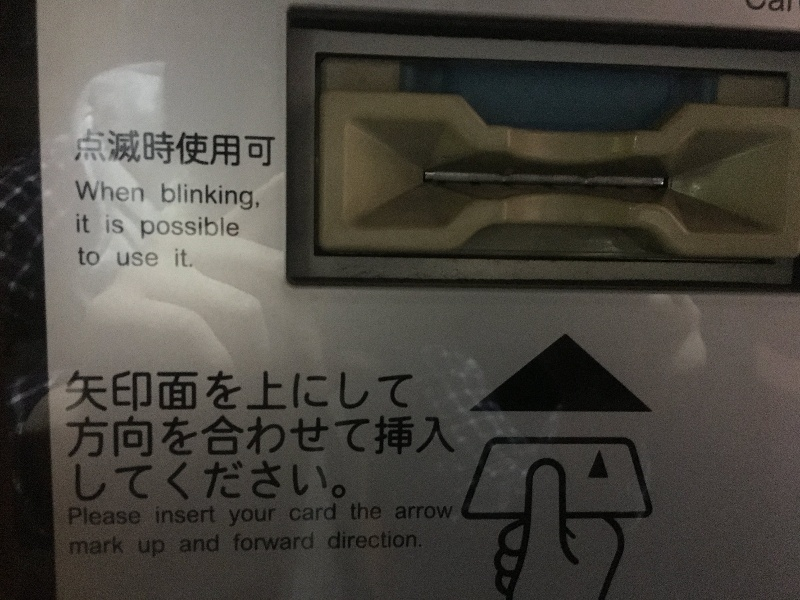text: (81, 416, 96, 462), (97, 416, 112, 462), (113, 416, 128, 462), (129, 416, 144, 462), (145, 416, 160, 462), (161, 416, 176, 462), (177, 416, 192, 462), (193, 416, 208, 462), (209, 416, 224, 462), (225, 416, 240, 462), (241, 416, 256, 462), (257, 416, 272, 462), (273, 416, 288, 462), (289, 416, 304, 462), (305, 416, 320, 462), (321, 416, 336, 462), (337, 416, 352, 462), (353, 416, 368, 462), (369, 416, 384, 462), (385, 416, 400, 462), (401, 416, 416, 462), (417, 416, 432, 462), (433, 416, 448, 462), (65, 370, 80, 413), (81, 370, 96, 413), (97, 370, 112, 413), (113, 370, 128, 413), (129, 370, 144, 413), (145, 370, 160, 413), (161, 370, 176, 413), (177, 370, 192, 413), (193, 370, 208, 413), (209, 370, 224, 413), (225, 370, 240, 413), (241, 370, 256, 413), (257, 370, 272, 413), (273, 370, 288, 413), (289, 370, 304, 413), (305, 370, 320, 413), (321, 370, 336, 413), (337, 370, 352, 413), (353, 370, 368, 413), (369, 370, 384, 413), (385, 370, 400, 413), (66, 416, 80, 462), (81, 461, 96, 503), (97, 461, 112, 503), (113, 461, 128, 503), (129, 461, 144, 503), (145, 461, 160, 503), (161, 461, 176, 503), (177, 461, 192, 503), (193, 461, 208, 503), (209, 461, 224, 503), (225, 461, 240, 503), (241, 461, 256, 503), (257, 461, 272, 503), (273, 461, 288, 503), (289, 461, 304, 503), (305, 461, 320, 503), (321, 461, 336, 503), (401, 370, 415, 413), (81, 130, 96, 168), (97, 130, 112, 168), (113, 130, 128, 168), (129, 130, 144, 168), (145, 130, 160, 168), (161, 130, 176, 168), (177, 130, 192, 168), (193, 130, 208, 168), (209, 130, 224, 168), (225, 130, 240, 168), (241, 130, 256, 168), (257, 130, 272, 168), (161, 182, 176, 211), (177, 182, 192, 211), (193, 182, 208, 211), (209, 182, 224, 211), (225, 182, 240, 211), (241, 182, 256, 211), (337, 461, 347, 503), (193, 532, 208, 557), (81, 504, 96, 528), (97, 504, 112, 528), (113, 504, 128, 528), (241, 506, 256, 530), (257, 506, 272, 530), (241, 532, 256, 556), (257, 532, 272, 556), (273, 532, 288, 556), (289, 532, 304, 556), (81, 181, 96, 204), (97, 181, 112, 204), (113, 181, 128, 204), (129, 181, 144, 204), (145, 218, 160, 241), (161, 218, 176, 241), (177, 218, 192, 241), (193, 218, 208, 241), (209, 218, 224, 241), (225, 218, 240, 241), (289, 502, 304, 525), (305, 502, 320, 525), (321, 502, 336, 525), (353, 501, 368, 524), (179, 532, 192, 557), (449, 416, 456, 462), (369, 501, 383, 524), (81, 247, 96, 268), (161, 506, 176, 527), (177, 506, 192, 527), (193, 506, 208, 527), (129, 504, 142, 528), (177, 248, 192, 268), (401, 503, 416, 523), (417, 503, 432, 523), (433, 503, 448, 523), (145, 538, 160, 558), (209, 532, 221, 557), (129, 249, 144, 268), (81, 538, 96, 557), (97, 538, 112, 557), (337, 533, 352, 552), (353, 533, 368, 552), (369, 533, 384, 552), (385, 533, 400, 552), (401, 533, 416, 552), (69, 504, 80, 528), (229, 506, 240, 530), (305, 532, 316, 556), (145, 249, 158, 268), (113, 538, 126, 557), (113, 215, 124, 236), (116, 249, 128, 268), (75, 461, 80, 503), (69, 538, 80, 557), (81, 214, 90, 236), (104, 215, 112, 236), (209, 506, 217, 527), (233, 532, 240, 556), (328, 533, 336, 552), (257, 182, 262, 211), (137, 538, 144, 558), (417, 533, 424, 552), (449, 503, 455, 523), (161, 538, 167, 558), (77, 130, 80, 168), (273, 130, 276, 168), (75, 214, 80, 236), (155, 506, 160, 527), (76, 181, 80, 204), (396, 503, 400, 523), (273, 506, 276, 530), (141, 218, 144, 241), (349, 501, 352, 524), (77, 247, 80, 268), (97, 247, 100, 268), (337, 502, 339, 525), (145, 181, 146, 204), (175, 248, 176, 268), (193, 248, 194, 268)
